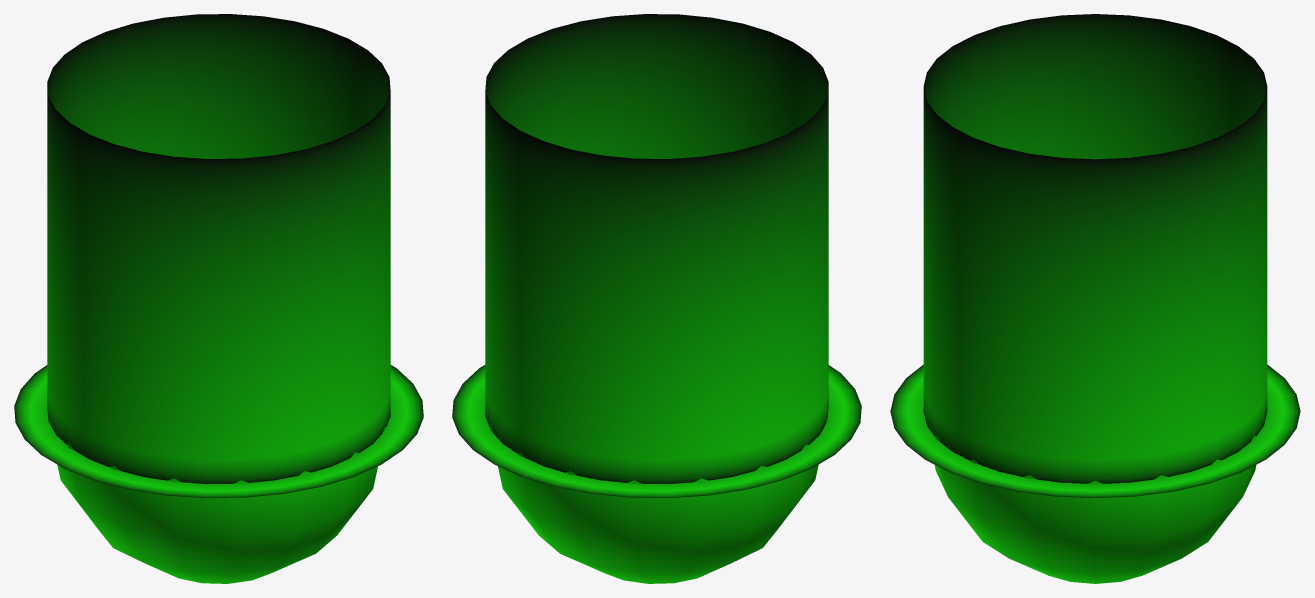
Rendered from shells.fbx.
3 renders of one model, left to right at view 1: azimuth 30°, elevation 25°; view 2: azimuth 150°, elevation 25°; view 3: azimuth 270°, elevation 25°, orthographic.
Visible parts, largest first — view 1: shell_cylinder_green, shell_bubble_green, shell_circle_green; view 2: shell_cylinder_green, shell_bubble_green, shell_circle_green; view 3: shell_cylinder_green, shell_bubble_green, shell_circle_green.
Boxes of the visible parts, bbox=[...] form: shell_cylinder_green: bbox=[47, 14, 390, 483]; shell_bubble_green: bbox=[47, 418, 386, 583]; shell_circle_green: bbox=[14, 365, 423, 497]; shell_cylinder_green: bbox=[485, 14, 828, 483]; shell_bubble_green: bbox=[489, 418, 828, 583]; shell_circle_green: bbox=[452, 365, 861, 497]; shell_cylinder_green: bbox=[923, 14, 1267, 483]; shell_bubble_green: bbox=[923, 409, 1267, 583]; shell_circle_green: bbox=[890, 364, 1300, 497].
Size of the model in its own units: 2.29 by 2.96 by 2.29.
